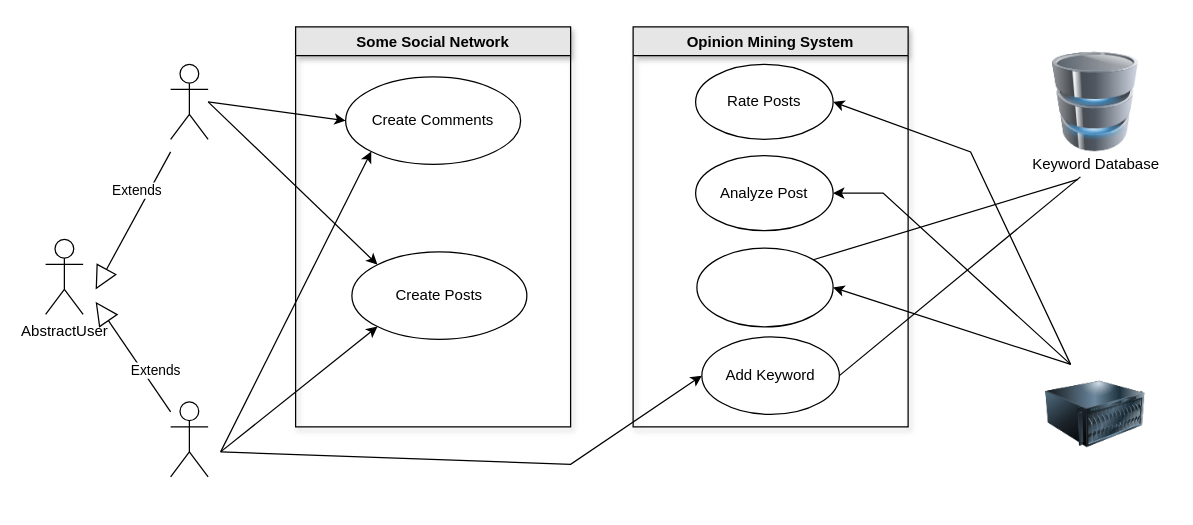
The diagram is 1193 pixels wide and 525 high, and some of its shapes have lost their labels. The shapes that lost their labels are listed below. From the top down, each one's centre as x and y in pixels, then its label:
At point (188, 101): "User".
At point (764, 287): "Get Keyword".
At point (1095, 414): "Analysis System".
At point (188, 439): "Admin".
